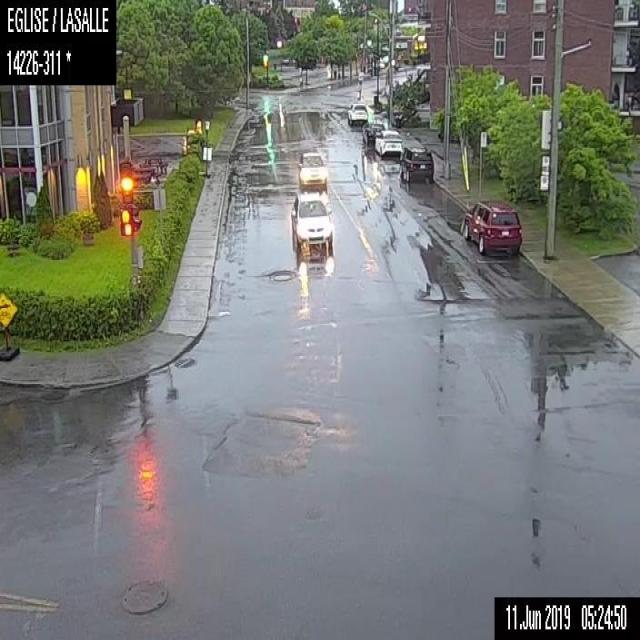vehicle: (462, 197, 522, 255), (288, 192, 334, 246), (396, 143, 434, 181), (296, 147, 327, 191), (373, 128, 405, 155), (362, 118, 385, 145), (346, 99, 369, 126), (181, 127, 201, 154)
